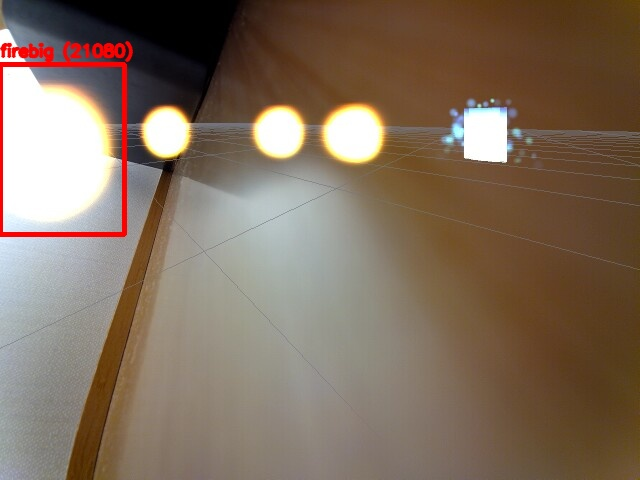firebig: (0, 64, 124, 234)
